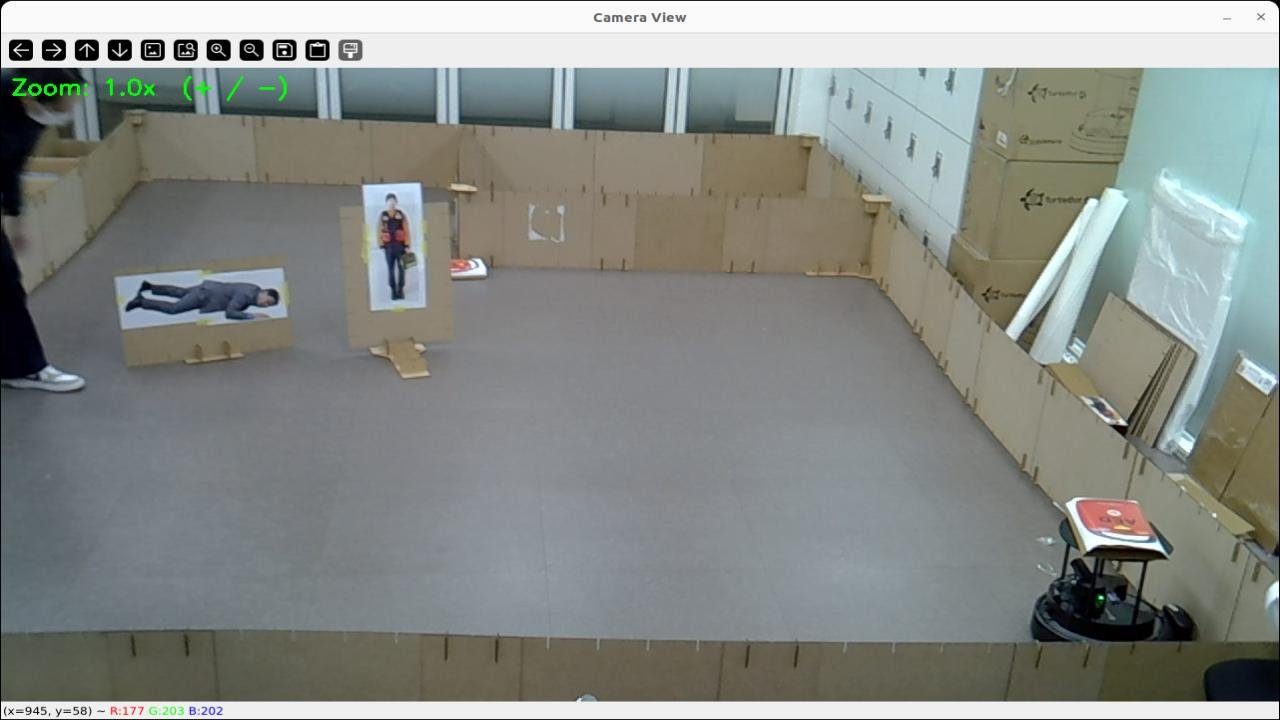AED: (1064, 497, 1168, 561), (452, 259, 487, 279)
Patient: (126, 280, 278, 320)
Responder: (378, 194, 408, 298)
Robot: (1031, 516, 1194, 641)
